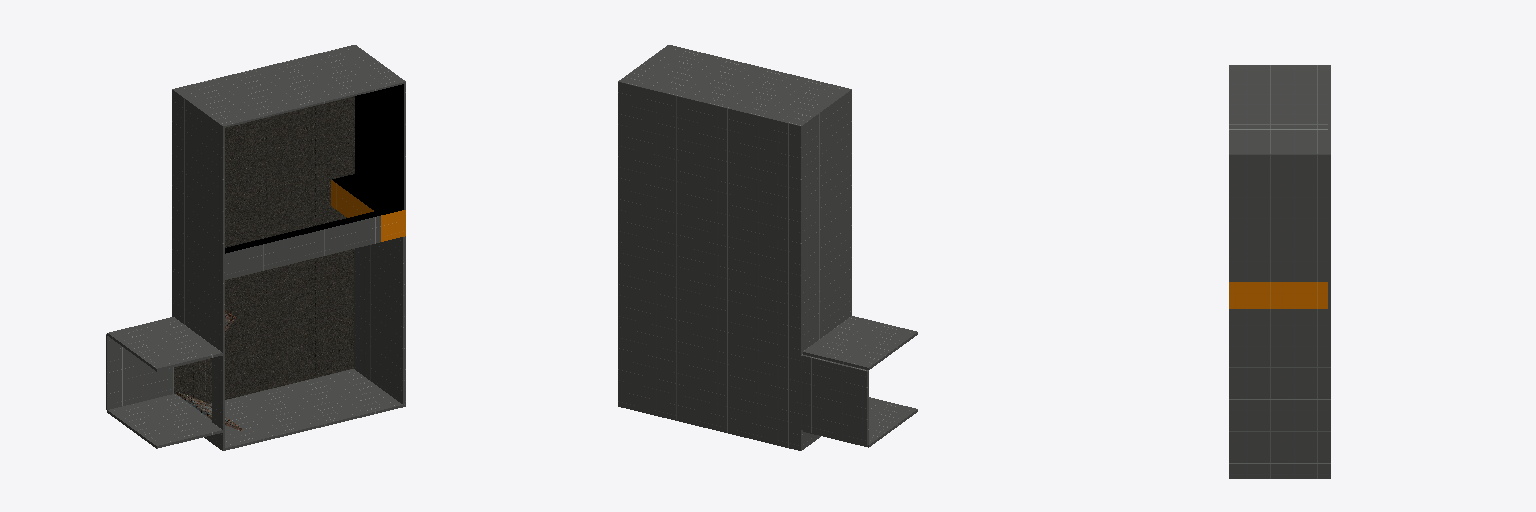
3 renders of one model, left to right at view 1: azimuth 30°, elevation 25°; view 2: azimuth 150°, elevation 25°; view 3: azimuth 270°, elevation 25°, orthographic.
Visible parts, largest first — view 1: 2, 2630, 46, 714, 2629, 2631, 2624, 27, 2992, 2993, 722, 67 (+1 smaller); view 2: 2, 2630, 2629, 722, 27, 2992, 2993; view 3: 714, 2631, 2630, 67, 2.
Boxes of the visible parts, box(x1,y1,x2,y2) form: 2: box(172, 45, 356, 403); 2630: box(177, 46, 405, 127); 46: box(209, 369, 405, 450); 714: box(354, 236, 405, 404); 2629: box(174, 90, 224, 253); 2631: box(355, 84, 405, 209); 2624: box(225, 211, 380, 279); 27: box(174, 219, 224, 354); 2992: box(107, 317, 222, 371); 2993: box(107, 394, 222, 448); 722: box(106, 334, 173, 409); 67: box(331, 174, 405, 241); 2: box(618, 81, 802, 450); 2630: box(619, 45, 848, 123); 2629: box(800, 89, 851, 252); 722: box(801, 354, 868, 445); 27: box(803, 217, 851, 350); 2992: box(803, 316, 917, 369); 2993: box(803, 397, 917, 447); 714: box(1229, 309, 1327, 476); 2631: box(1229, 156, 1327, 281); 2630: box(1229, 66, 1327, 155); 67: box(1229, 282, 1327, 308); 2: box(1328, 65, 1330, 478).
Size of the model in its own units: 392 by 488 by 138.
Materials: 5 (5 with a texture image).